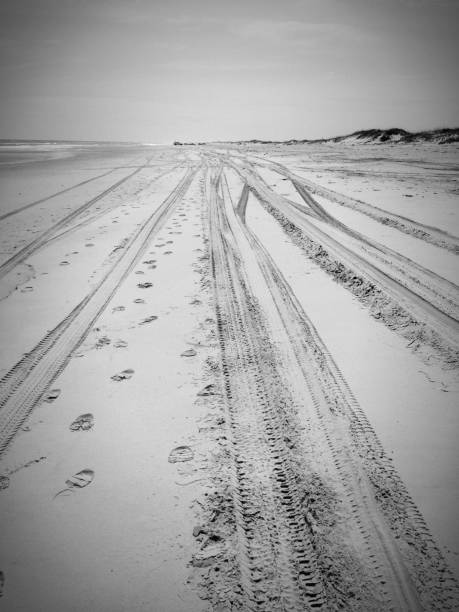human_foot_print: (54, 469, 94, 497), (69, 413, 94, 431), (168, 445, 193, 462), (111, 368, 133, 381), (197, 384, 218, 396), (43, 388, 60, 402), (94, 336, 110, 348), (139, 315, 157, 324), (0, 475, 9, 490), (181, 348, 196, 356), (113, 339, 127, 347), (0, 570, 4, 596), (137, 282, 152, 288), (112, 305, 124, 312), (21, 286, 33, 292), (190, 298, 201, 304), (142, 259, 155, 264), (133, 298, 144, 303), (59, 260, 69, 265), (135, 270, 144, 274), (148, 264, 156, 268), (164, 250, 172, 254), (85, 243, 94, 246), (166, 240, 173, 243)
vehicle_track: (235, 206, 458, 609), (0, 167, 196, 454), (208, 168, 325, 611), (231, 165, 458, 353), (254, 158, 458, 252), (0, 165, 143, 278), (0, 165, 125, 220)
